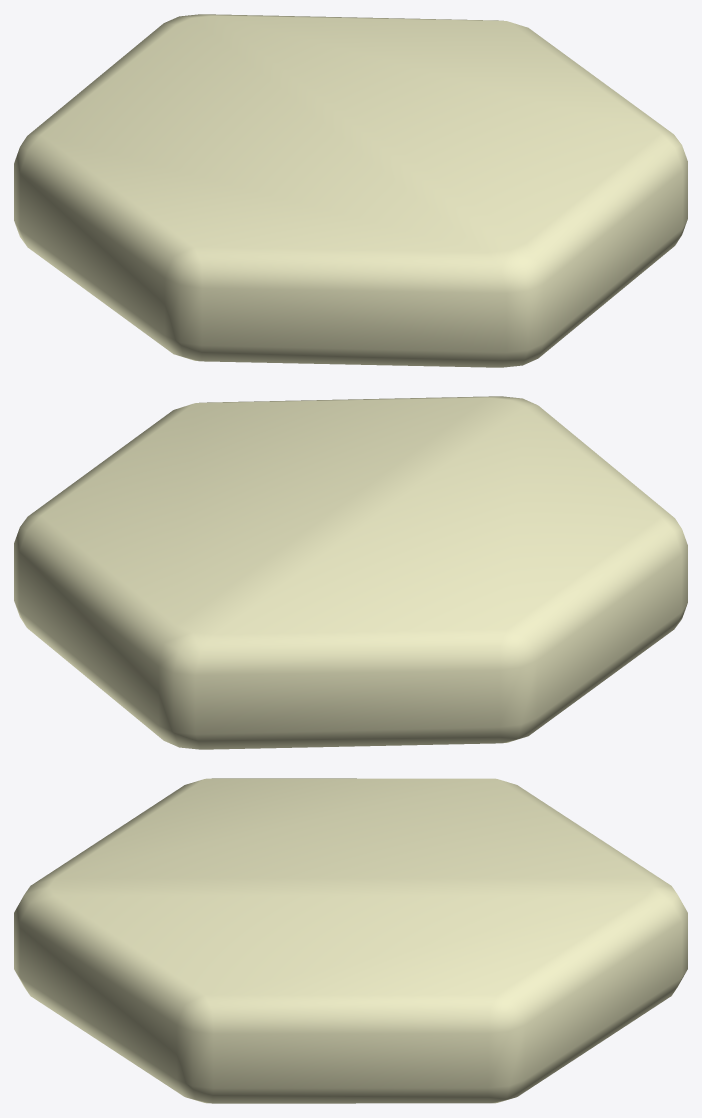
The model's file is hexagon3D_blender.dae.
3 views of the same model, one above another, from view 1: azimuth 30°, elevation 25°; view 2: azimuth 150°, elevation 25°; view 3: azimuth 270°, elevation 25° (orthographic). The views are drawn at different scales.
Visible parts, largest first — view 1: NeutralHex; view 2: NeutralHex; view 3: NeutralHex.
Boxes of the visible parts, x1,y1,x2,y2 form: NeutralHex: (14,14,687,367); NeutralHex: (14,396,687,749); NeutralHex: (14,778,687,1103).
Size of the model in its own units: 1.08 by 1.29 by 0.2278.
Materials: 1 (1 with a texture image).
